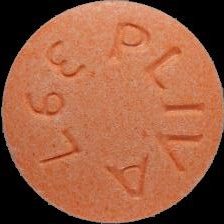50111-397: (0, 0, 224, 224)
